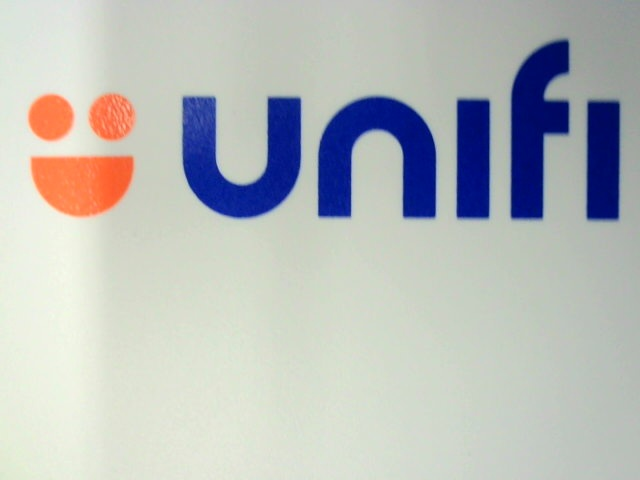BN_unifi: (21, 36, 623, 231)
